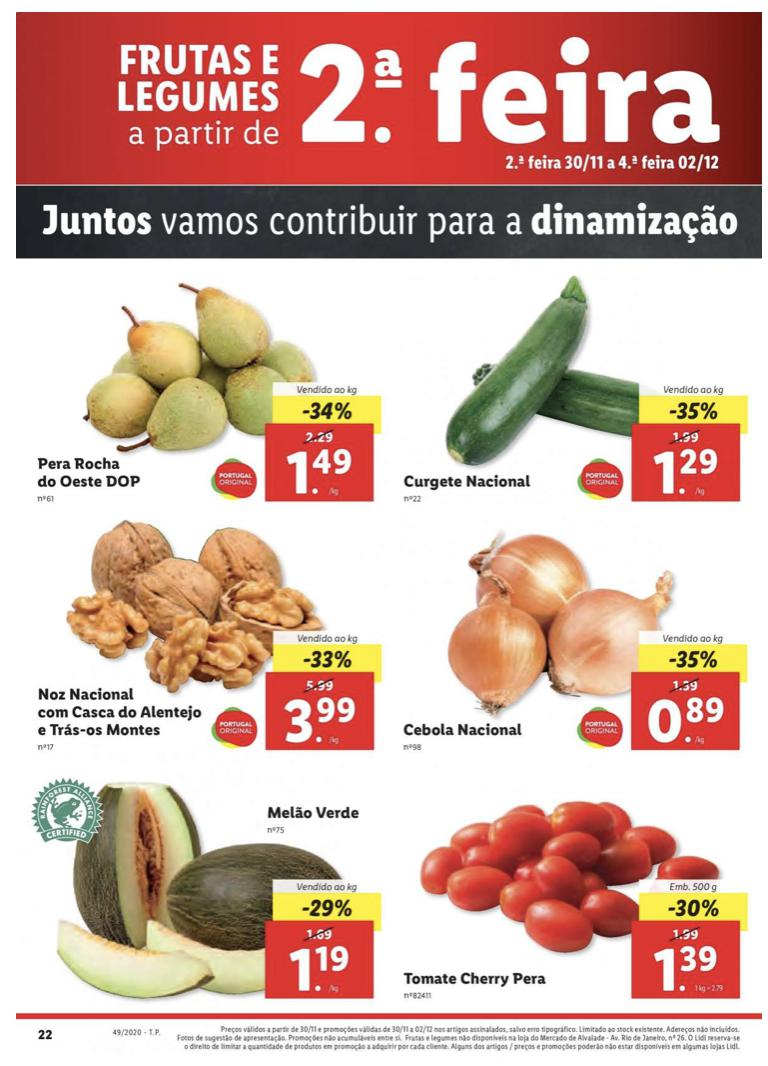name: (32, 684, 203, 739), (35, 453, 147, 493), (401, 967, 551, 991), (401, 717, 527, 742), (265, 803, 364, 828), (402, 474, 536, 492)
price: (643, 941, 724, 1001), (647, 693, 726, 750), (280, 695, 361, 747), (649, 443, 719, 497), (286, 446, 357, 499), (284, 945, 352, 996)
product: (382, 758, 756, 1005), (17, 766, 393, 1008), (21, 512, 382, 760), (21, 276, 393, 512), (397, 516, 755, 758), (397, 270, 753, 509)
